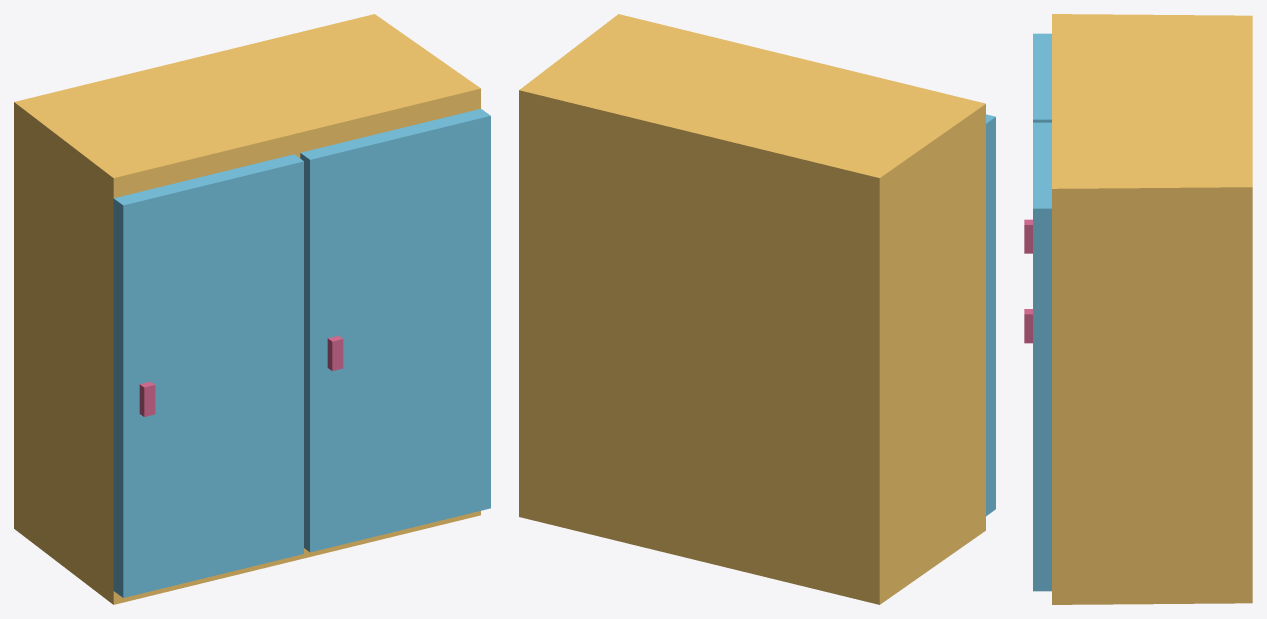
File: wardrobe2.FBX
The picture shows the model from 3 angles, left to right: view 1: azimuth 30°, elevation 25°; view 2: azimuth 150°, elevation 25°; view 3: azimuth 270°, elevation 25°; orthographic projection. The views are drawn at different scales.
Visible parts, largest first — view 1: wardrobe2; view 2: wardrobe2; view 3: wardrobe2.
Part boxes in pixels (box(x1,y1,x2,y2)): wardrobe2: box(14, 14, 490, 604); wardrobe2: box(519, 14, 995, 604); wardrobe2: box(1024, 14, 1252, 604).
Bounding box in the file's own units: 55.01 × 61.04 × 30.38.
